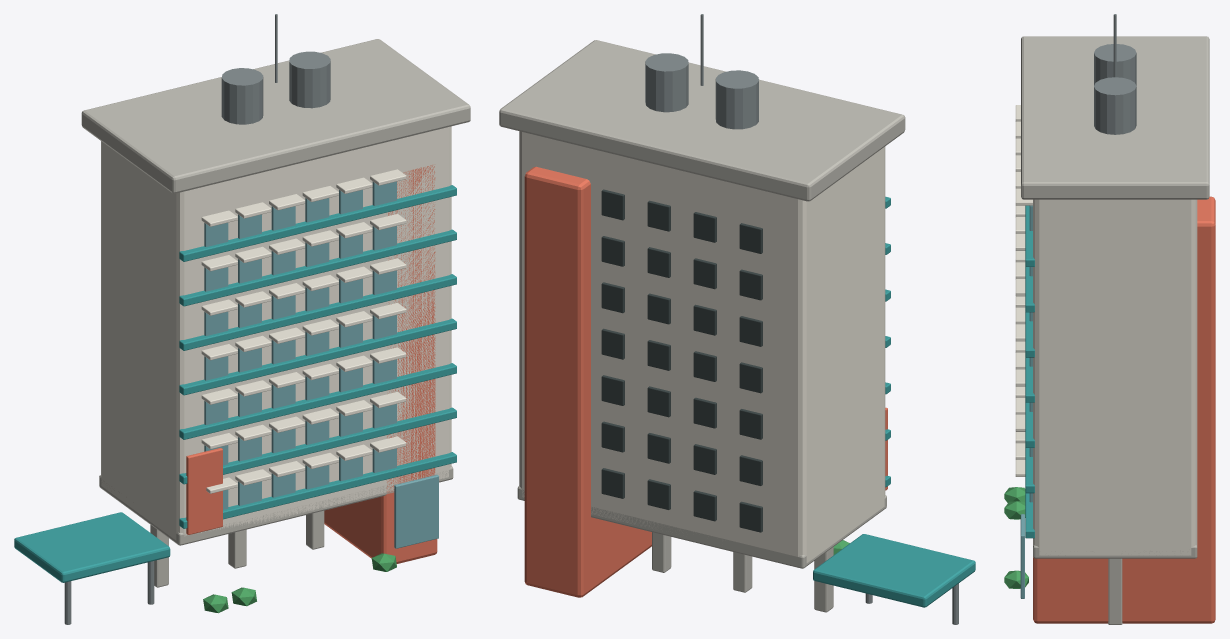
File: hdb.glb
3 views of the same model, side by side, from view 1: azimuth 30°, elevation 25°; view 2: azimuth 150°, elevation 25°; view 3: azimuth 270°, elevation 25° (orthographic). The views are drawn at different scales.
Parts seen in each view (by area): view 1: Residential slab, Roof slab, Lift core, Linkway roof, Corridor band.005, Corridor band.003, Corridor band.004, Corridor band.002, Corridor band.006, Lift lobby glass, Block number panel, Corridor band.001 (+6 smaller); view 2: Residential slab, Roof slab, Lift core, Linkway roof, Void deck ceiling, Roof tank, Roof tank.001, Void deck column, Void deck column.001, Void deck column.002; view 3: Residential slab, Roof slab, Lift core, Roof tank.001, Roof tank, Void deck column.003, Void deck ceiling, Corridor band.006, Lift lobby glass, Corridor band.003, Corridor band.004, Corridor band (+6 smaller).
Part boxes in pixels (box(x1,y1,x2,y2)): Residential slab: box(101, 126, 451, 540); Roof slab: box(81, 39, 470, 193); Lift core: box(324, 165, 437, 563); Linkway roof: box(14, 512, 170, 582); Corridor band.005: box(179, 229, 456, 306); Corridor band.003: box(179, 318, 456, 395); Corridor band.004: box(179, 274, 456, 350); Corridor band.002: box(179, 363, 456, 439); Corridor band.006: box(179, 185, 456, 261); Lift lobby glass: box(394, 474, 438, 548); Block number panel: box(186, 448, 222, 534); Corridor band.001: box(179, 407, 456, 484); Residential slab: box(519, 131, 885, 562); Roof slab: box(499, 40, 905, 201); Lift core: box(524, 166, 651, 597); Linkway roof: box(813, 534, 975, 607); Void deck ceiling: box(517, 486, 886, 568); Roof tank: box(715, 70, 758, 129); Roof tank.001: box(645, 53, 688, 112); Void deck column: box(814, 547, 833, 612); Void deck column.001: box(733, 552, 752, 592); Void deck column.002: box(652, 532, 671, 572); Residential slab: box(1033, 199, 1197, 555); Roof slab: box(1021, 36, 1209, 199); Lift core: box(1033, 196, 1215, 623); Roof tank.001: box(1094, 77, 1136, 134); Roof tank: box(1094, 44, 1136, 85); Void deck column.003: box(1108, 558, 1122, 624); Void deck ceiling: box(1033, 545, 1197, 558); Corridor band.006: box(1025, 205, 1034, 266); Lift lobby glass: box(1020, 514, 1024, 598); Corridor band.003: box(1025, 357, 1034, 402); Corridor band.004: box(1025, 312, 1034, 357); Corridor band: box(1025, 493, 1034, 538).
Bounding box in the file's own units: 7.48 × 9.98 × 3.47.
